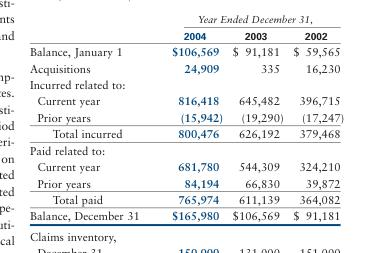table: (28, 29, 343, 221)
table column: (28, 29, 154, 221), (154, 29, 226, 221), (226, 29, 287, 221), (287, 29, 343, 221)
table column header: (28, 29, 343, 42)
table projected row header: (28, 75, 343, 92), (28, 141, 343, 157)
table row: (28, 42, 343, 59), (28, 75, 343, 92), (28, 124, 343, 141), (28, 157, 343, 174), (28, 59, 343, 75), (28, 92, 343, 108), (28, 108, 343, 124), (28, 141, 343, 157), (28, 174, 343, 190), (28, 190, 343, 206), (28, 206, 343, 221), (28, 29, 343, 42)
